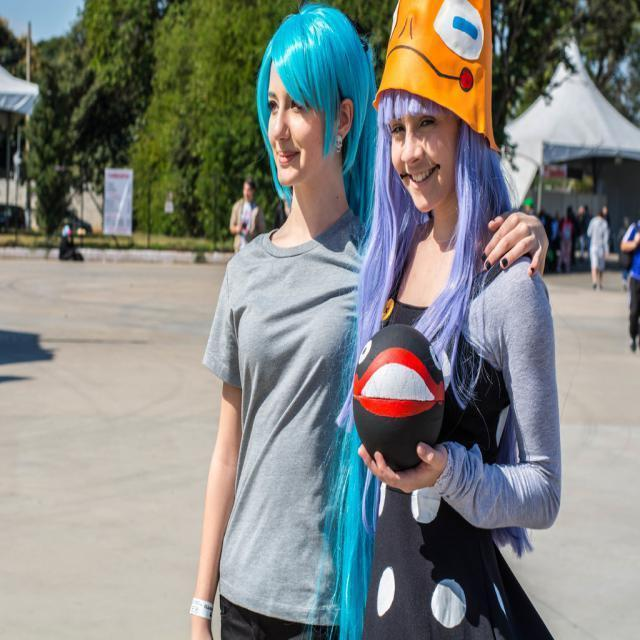ball: (353, 323, 446, 469)
